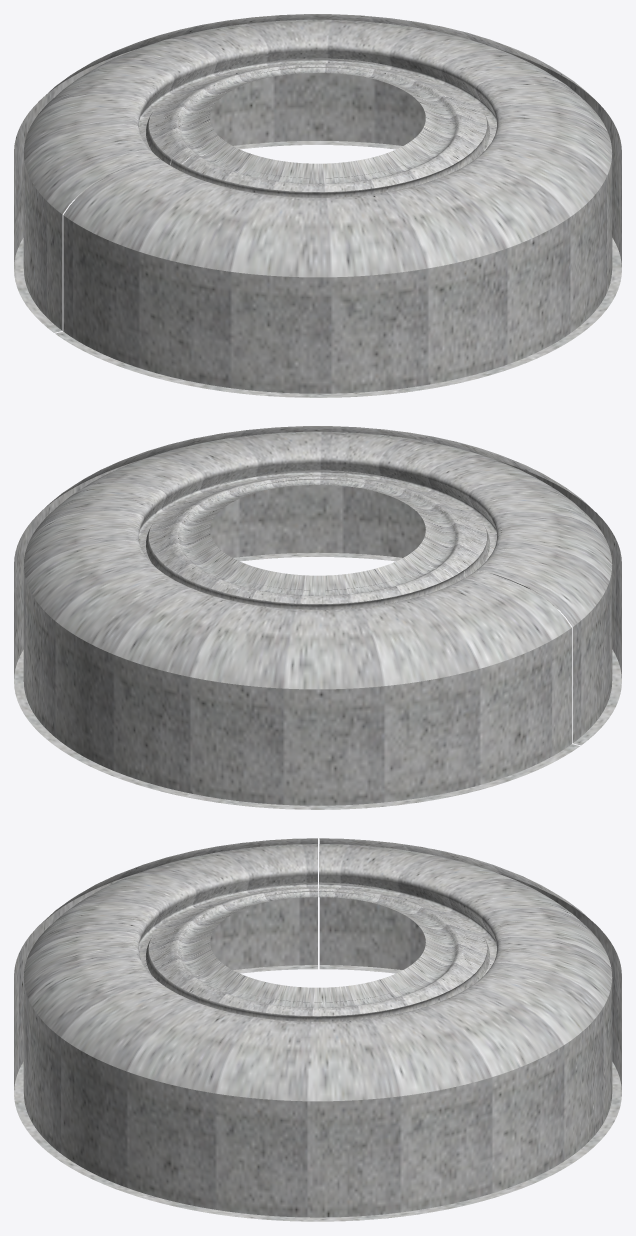
The model's file is gall3.glb.
3 views of the same model, one above another, from view 1: azimuth 30°, elevation 25°; view 2: azimuth 150°, elevation 25°; view 3: azimuth 270°, elevation 25° (orthographic).
Bounding box in the file's own units: 142 × 39.76 × 142.
Materials: 1 (1 with a texture image).
